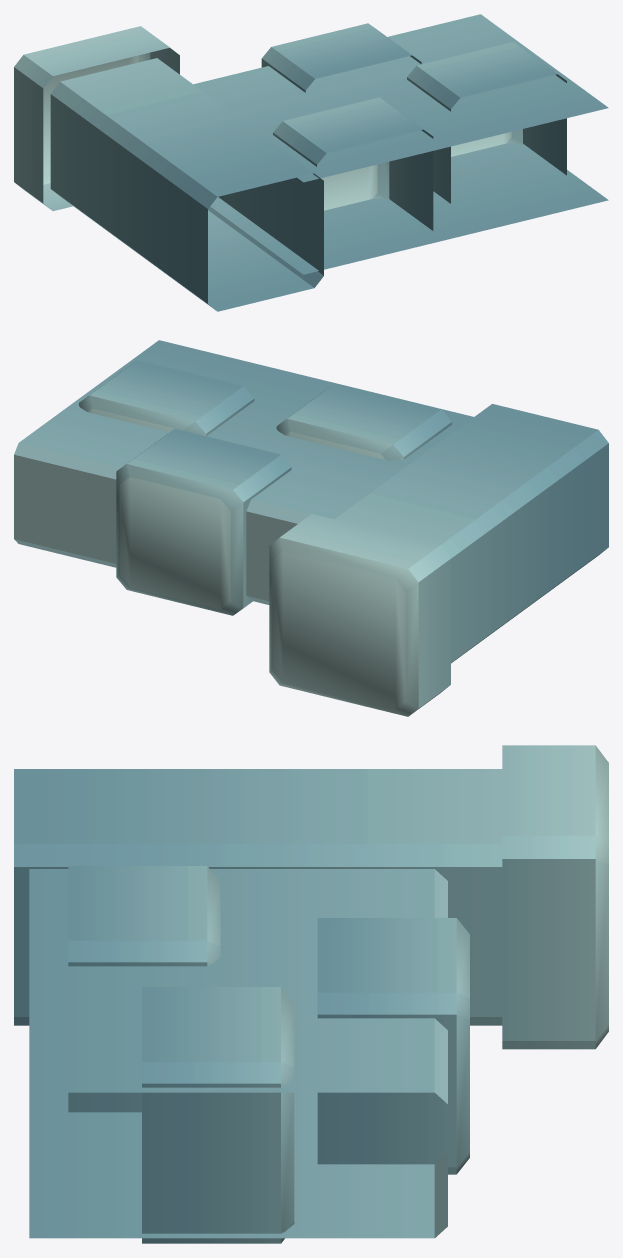
The model's file is Border 02.FBX.
The picture shows the model from 3 angles, top to bottom: view 1: azimuth 30°, elevation 25°; view 2: azimuth 150°, elevation 25°; view 3: azimuth 270°, elevation 25°; orthographic projection. The views are drawn at different scales.
Visible parts, largest first — view 1: Border Middle 02, Border End 02; view 2: Border Middle 02, Border End 02; view 3: Border Middle 02, Border End 02.
Boxes of the visible parts, x1,y1,x2,y2 form: Border Middle 02: (193,14,608,274); Border End 02: (14,26,323,311); Border Middle 02: (14,340,473,615); Border End 02: (269,404,608,716); Border Middle 02: (29,866,469,1243); Border End 02: (14,745,608,1049).
Size of the model in its own units: 510 by 158 by 399.
Materials: 1 (1 with a texture image).
